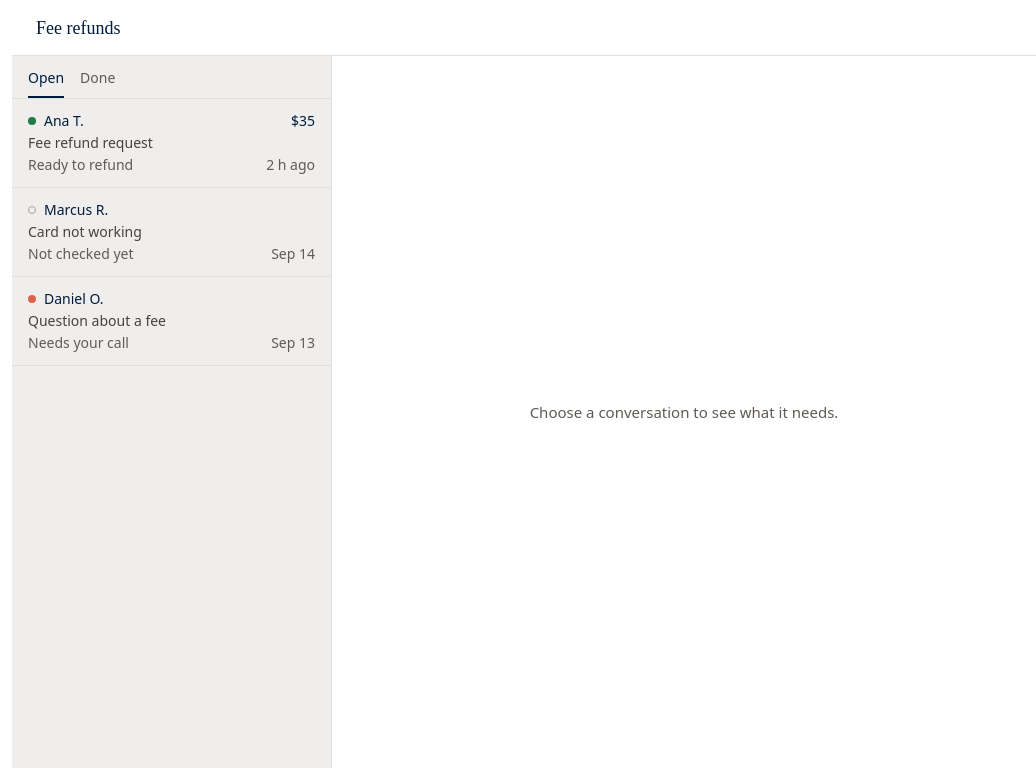
Queue › shows the done conversations in their own tab
Click the tab "Done": (98, 83) [80,68,115,98]
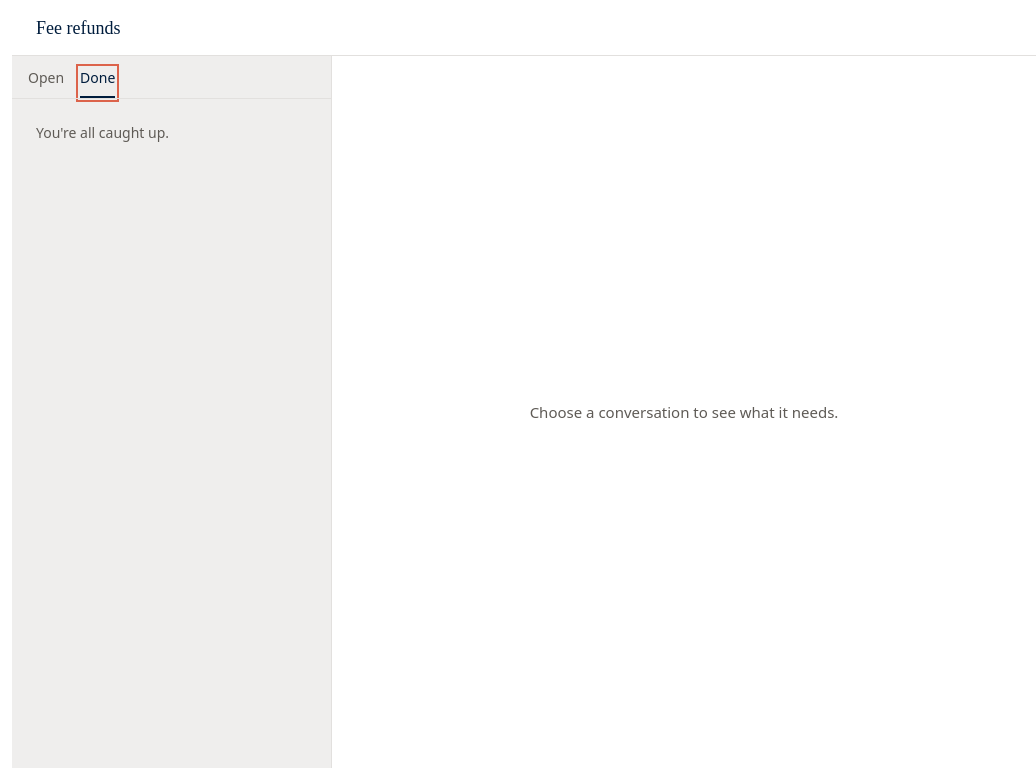
Expected: the text "You're all caught up." is shown, [36,123,169,142]
